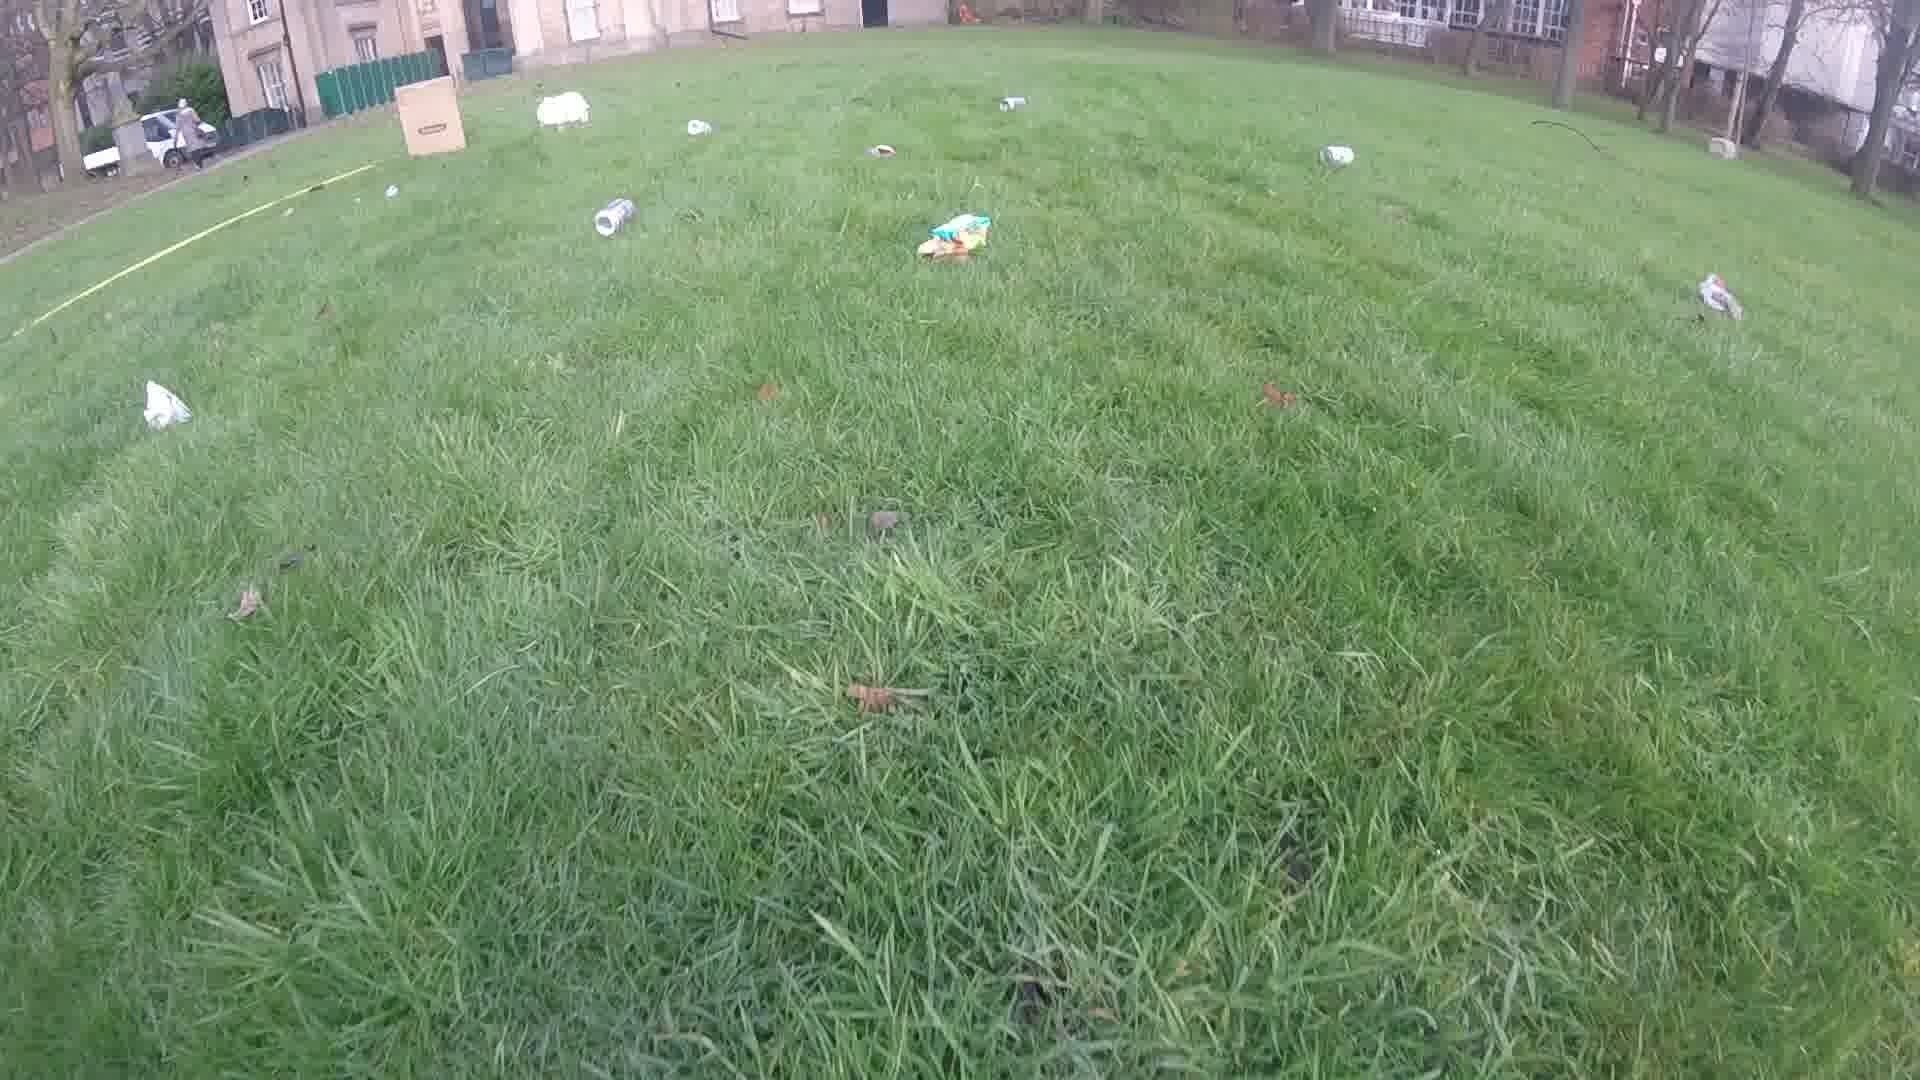litter: (394, 73, 468, 156), (913, 212, 993, 262), (138, 380, 193, 433), (535, 90, 591, 131), (1697, 273, 1738, 316), (591, 196, 632, 235), (1323, 144, 1352, 164), (862, 142, 898, 158), (684, 117, 708, 138), (998, 95, 1027, 109), (380, 182, 396, 198)
